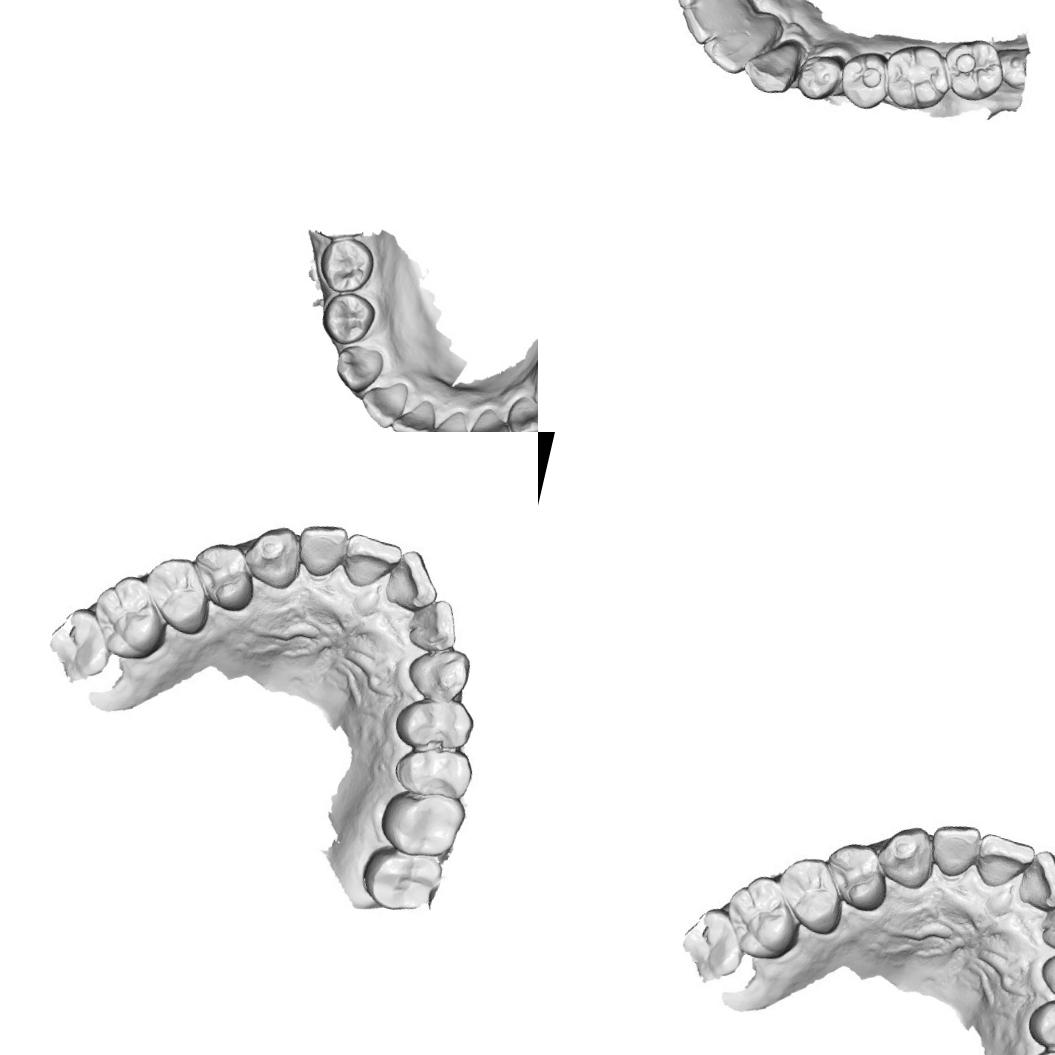canine: (740, 34, 803, 100), (876, 823, 936, 888), (406, 643, 470, 703), (244, 523, 302, 588), (330, 339, 386, 397), (501, 392, 538, 432), (1039, 943, 1055, 1003)
incisor: (974, 832, 1034, 890), (342, 532, 402, 589), (926, 820, 982, 880), (353, 374, 410, 432), (700, 26, 761, 80), (294, 520, 348, 580), (384, 548, 438, 608), (406, 598, 463, 654), (679, 0, 730, 46), (1016, 847, 1055, 907), (389, 393, 440, 432), (464, 403, 517, 432), (426, 404, 478, 432), (1039, 898, 1055, 953), (666, 0, 718, 10)
molar: (84, 572, 169, 662), (717, 872, 802, 962), (358, 837, 443, 926), (873, 34, 956, 118), (935, 31, 1014, 108), (384, 790, 466, 862)
premolar: (139, 555, 215, 639), (772, 855, 848, 939), (392, 742, 470, 804), (188, 540, 254, 609), (822, 840, 888, 909), (314, 231, 380, 299), (403, 695, 477, 754), (834, 45, 896, 115), (794, 43, 854, 111), (317, 287, 380, 350), (1036, 995, 1055, 1054)
